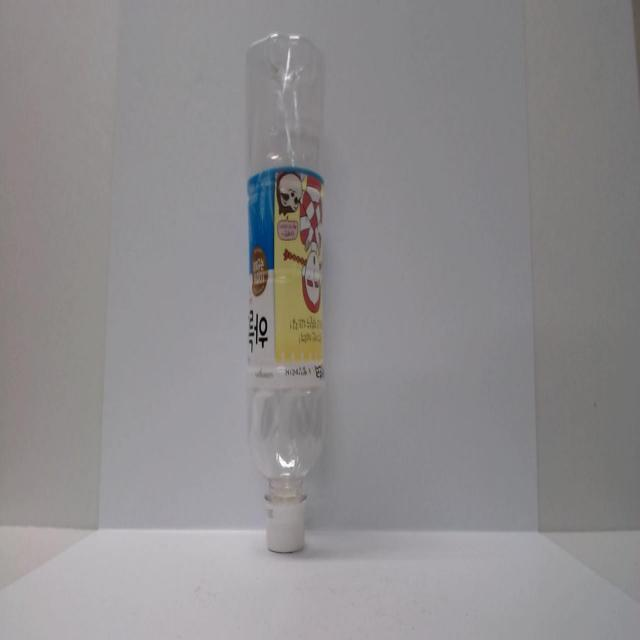bottle: (230, 28, 332, 576)
